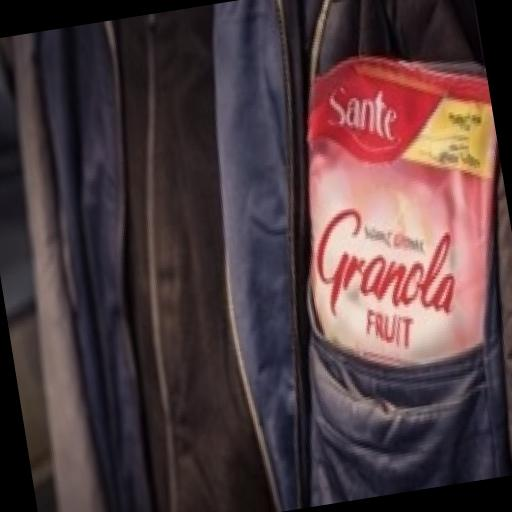granola: (258, 15, 512, 448)
